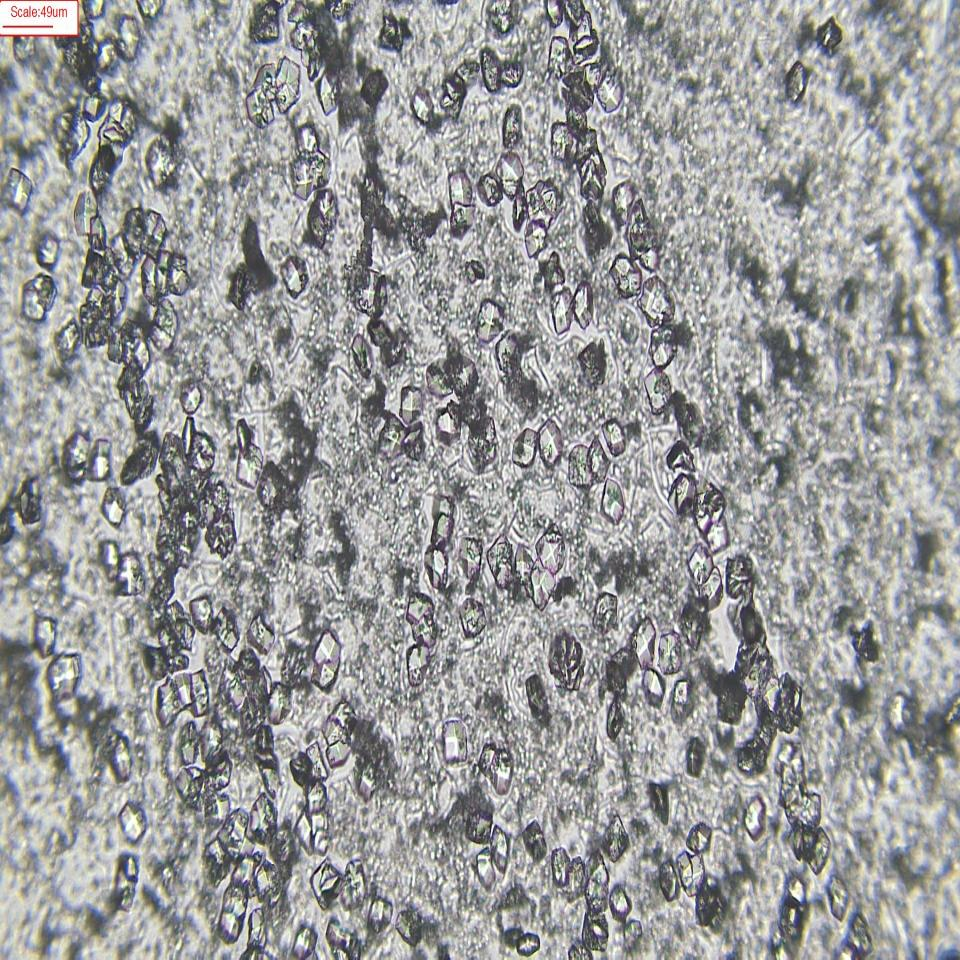crystal: (545, 626, 588, 697), (398, 636, 434, 705), (642, 360, 676, 421), (32, 226, 66, 284), (722, 548, 757, 602), (640, 275, 676, 327), (312, 627, 341, 690), (144, 136, 177, 190), (1, 164, 35, 216), (524, 668, 553, 727), (499, 96, 528, 154), (348, 332, 376, 388), (47, 652, 81, 698), (643, 771, 672, 823), (680, 734, 712, 781), (432, 398, 462, 448), (600, 812, 629, 863), (454, 532, 489, 574), (190, 588, 214, 649), (522, 813, 544, 877), (631, 616, 655, 673), (677, 850, 706, 897), (120, 798, 148, 846), (442, 714, 468, 764), (538, 416, 565, 464), (236, 441, 264, 487), (459, 591, 484, 642), (475, 299, 504, 342), (549, 286, 575, 333), (280, 256, 309, 298), (569, 280, 594, 328), (601, 477, 625, 524), (659, 631, 684, 676), (398, 386, 426, 426), (101, 485, 128, 526), (600, 415, 626, 457), (783, 59, 807, 104), (547, 839, 571, 884), (744, 790, 766, 837), (475, 846, 497, 892), (424, 544, 448, 586), (640, 668, 666, 706), (512, 428, 538, 465), (411, 83, 435, 123), (512, 926, 541, 958), (491, 827, 511, 872), (119, 850, 143, 886), (609, 883, 632, 919), (374, 274, 390, 322), (178, 379, 201, 412), (511, 180, 526, 230), (180, 414, 196, 460)
not_crystal: (612, 182, 659, 269), (243, 59, 302, 124), (526, 532, 568, 610), (153, 672, 213, 722), (291, 120, 331, 194), (486, 533, 533, 588), (139, 250, 190, 296), (477, 154, 525, 196), (689, 543, 722, 604), (123, 210, 166, 254), (478, 742, 515, 792), (20, 271, 56, 320), (446, 167, 472, 230), (432, 492, 456, 547)
